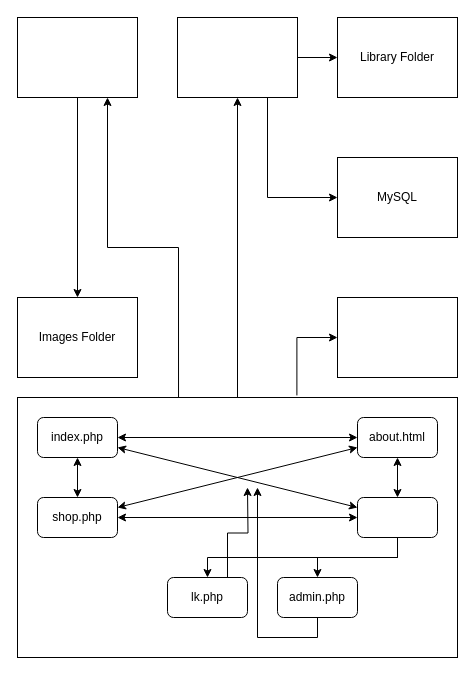
This 475x675 diagram has some shape labels left out. Here are the shapes that lost their labels. From the top down, the box of each, then its label:
(16, 16, 138, 98): CSS Folder
(176, 16, 298, 98): PHP Folder
(336, 296, 458, 378): JS Folder
(356, 496, 438, 538): auth.php
